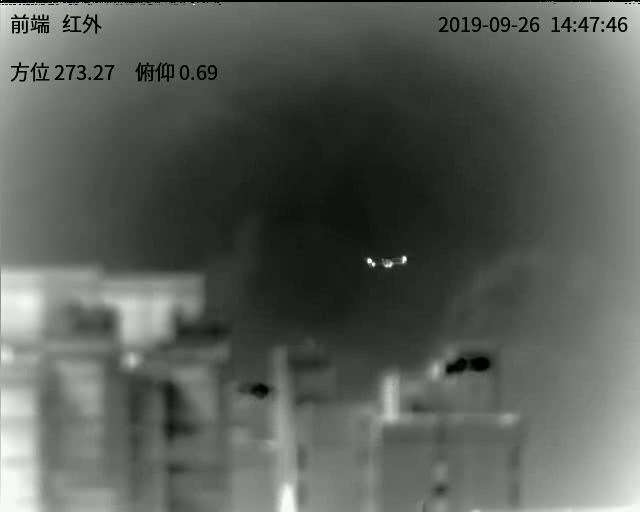DRONE: (364, 254, 409, 270)
